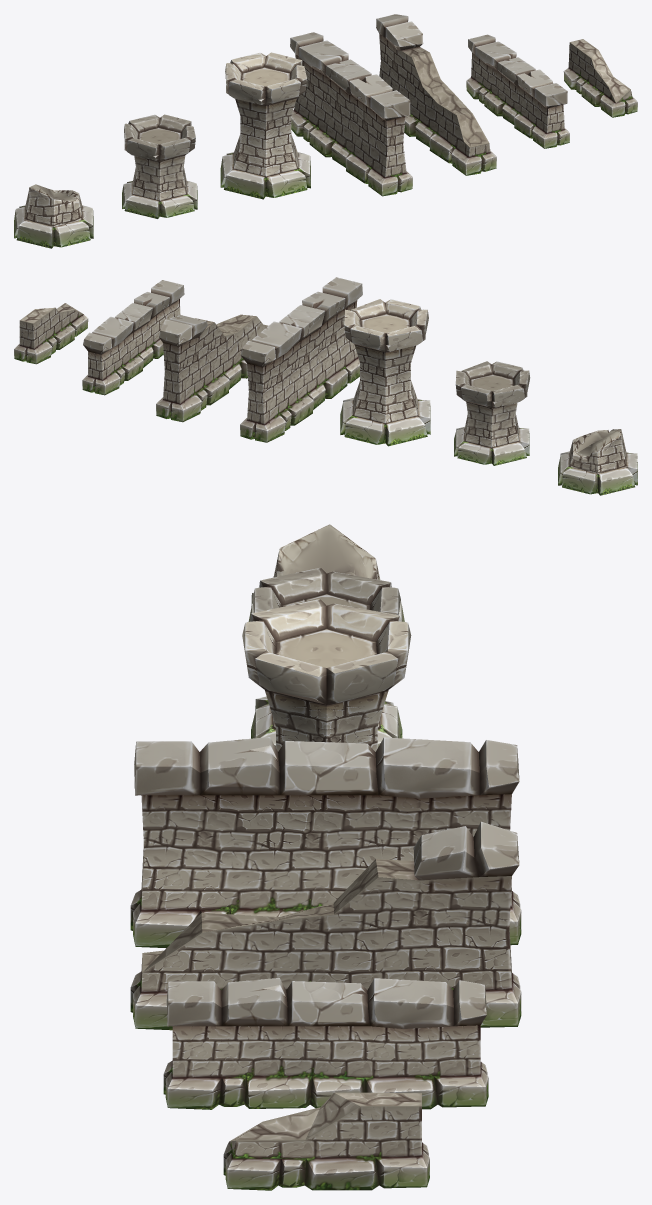
File: moba_walls.FBX
The picture shows the model from 3 angles, top to bottom: view 1: azimuth 30°, elevation 25°; view 2: azimuth 150°, elevation 25°; view 3: azimuth 270°, elevation 25°; orthographic projection. The views are drawn at different scales.
Parts seen in each view (by area): view 1: wall_big, wall_link_big, wall_big_broken, wall_small, wall_link_small, wall_link_broken, wall_small_broken; view 2: wall_big, wall_link_big, wall_big_broken, wall_link_small, wall_small, wall_link_broken, wall_small_broken; view 3: wall_big, wall_big_broken, wall_small, wall_link_big, wall_small_broken, wall_link_small, wall_link_broken.
Part boxes in pixels (x1,y1,x2,y2): wall_big: (290,32,412,196); wall_link_big: (220,52,310,199); wall_big_broken: (376,14,496,175); wall_small: (466,34,569,148); wall_link_small: (122,114,197,218); wall_link_broken: (14,184,93,248); wall_small_broken: (563,39,637,117); wall_big: (240,277,362,442); wall_link_big: (340,299,430,446); wall_big_broken: (156,314,268,422); wall_link_small: (454,361,530,465); wall_small: (82,280,184,395); wall_link_broken: (558,429,637,495); wall_small_broken: (14,303,88,364); wall_big: (130,737,521,948); wall_big_broken: (130,821,521,1030); wall_small: (163,978,488,1109); wall_link_big: (242,599,411,751); wall_small_broken: (223,1092,429,1190); wall_link_small: (251,567,402,747); wall_link_broken: (248,524,404,621).
Bounding box in the file's own units: 144 × 24.4 × 40.36.
